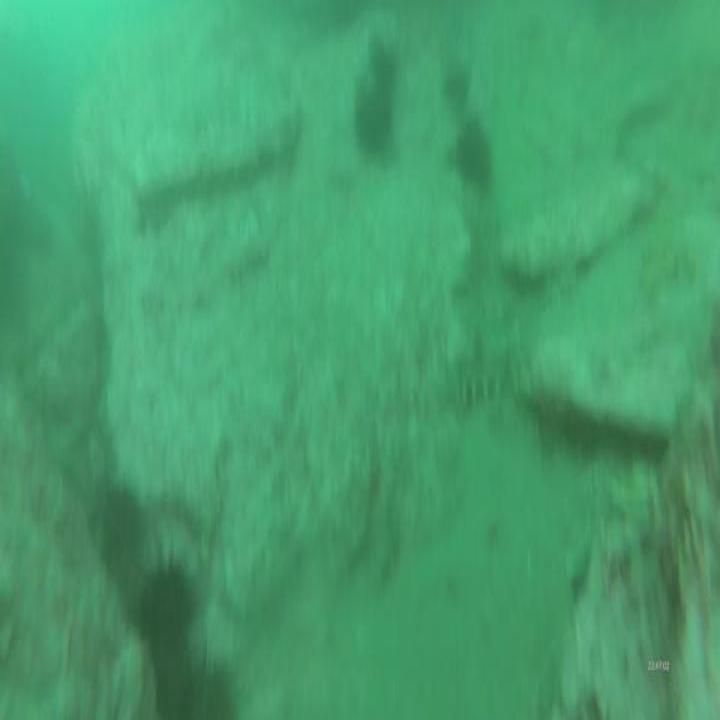echinus: (134, 542, 199, 665), (93, 477, 150, 582), (165, 649, 237, 720), (349, 73, 397, 163), (452, 121, 495, 195), (366, 39, 399, 94), (441, 64, 471, 112)
holothurian: (634, 234, 694, 306), (447, 350, 514, 411)
